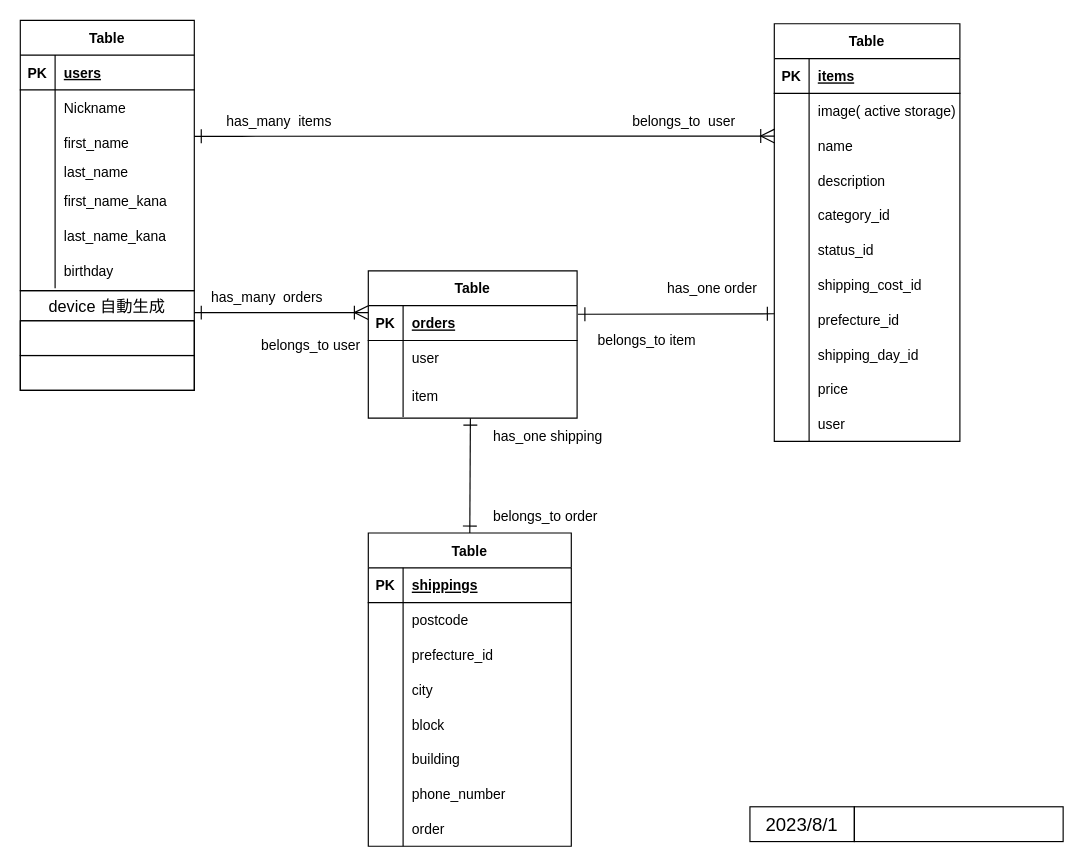
Some shapes in this 1083 by 867 pixel diagram are drawn without their labels. The centre of each missing label's shape, as x and y in pixels:
email: point (106, 338)
encrypted_password: point (106, 372)
furima-39575 ER図: point (958, 824)
